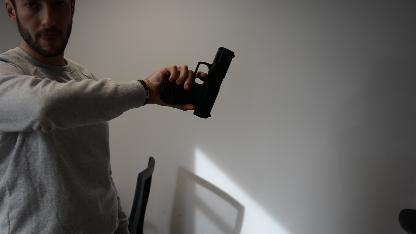pistol: (158, 46, 235, 118)
